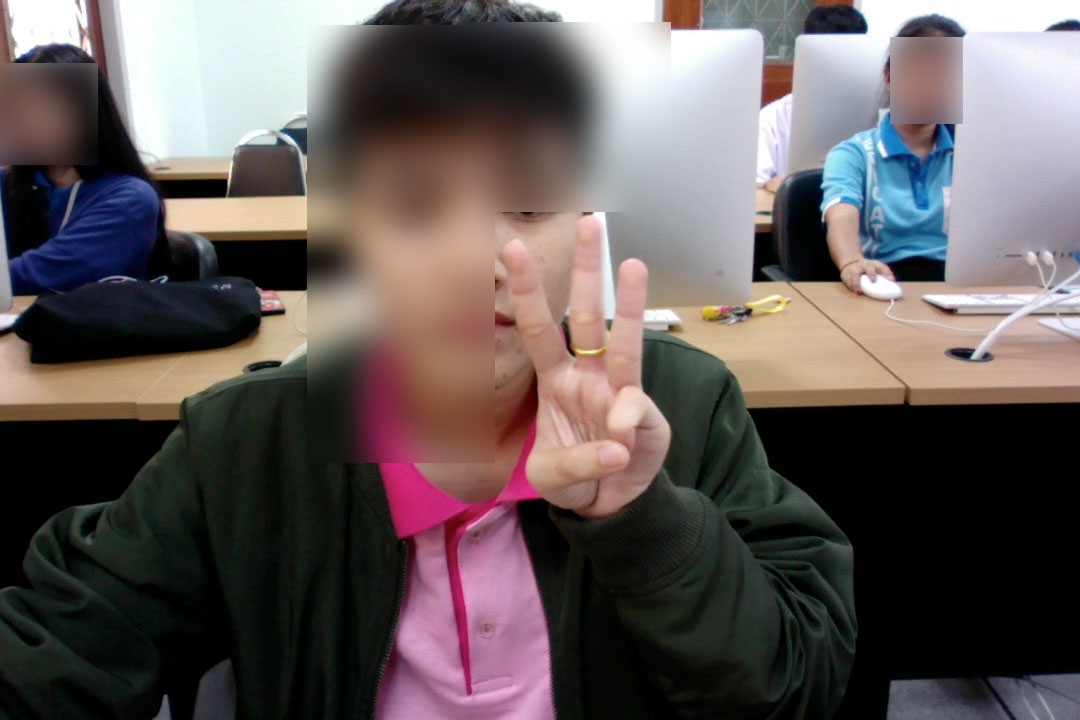wor: (464, 197, 714, 538)
